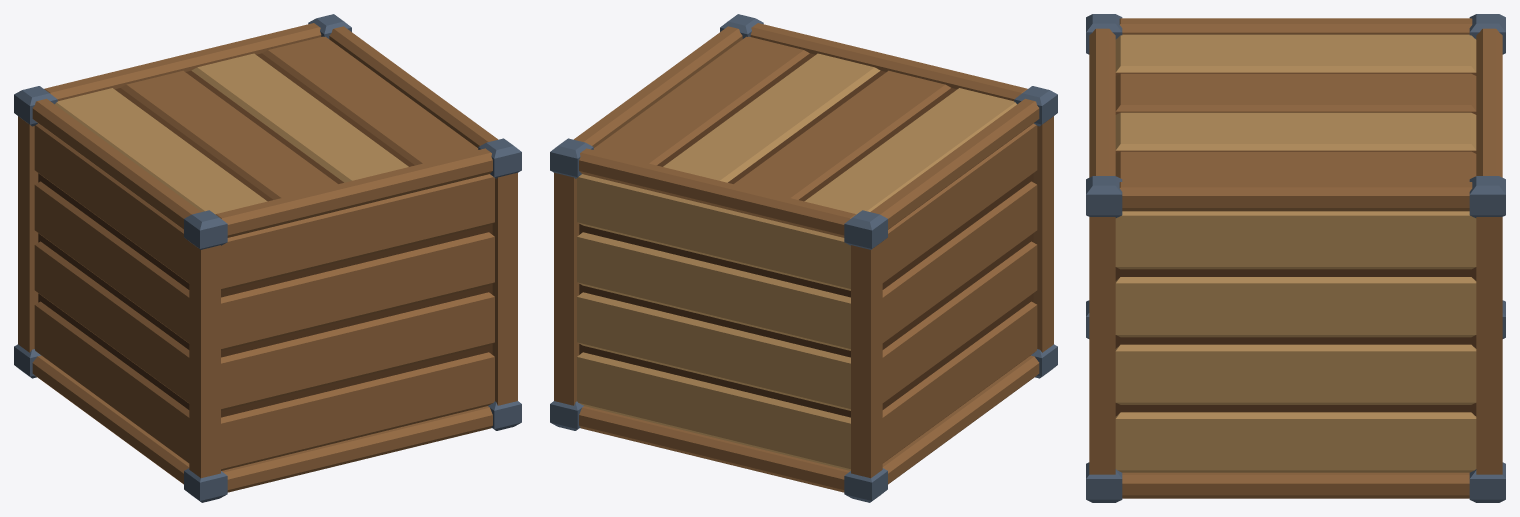
The model's file is Crate_27.glb.
The picture shows the model from 3 angles, left to right: view 1: azimuth 30°, elevation 25°; view 2: azimuth 150°, elevation 25°; view 3: azimuth 270°, elevation 25°; orthographic projection. The views are drawn at different scales.
Parts seen in each view (by area): view 1: Crate_27; view 2: Crate_27; view 3: Crate_27.
Boxes of the visible parts, x1,y1,x2,y2 form: Crate_27: [14, 14, 521, 502]; Crate_27: [550, 14, 1057, 502]; Crate_27: [1086, 14, 1505, 502].
Bounding box in the file's own units: 2.56 × 2.13 × 2.56.
